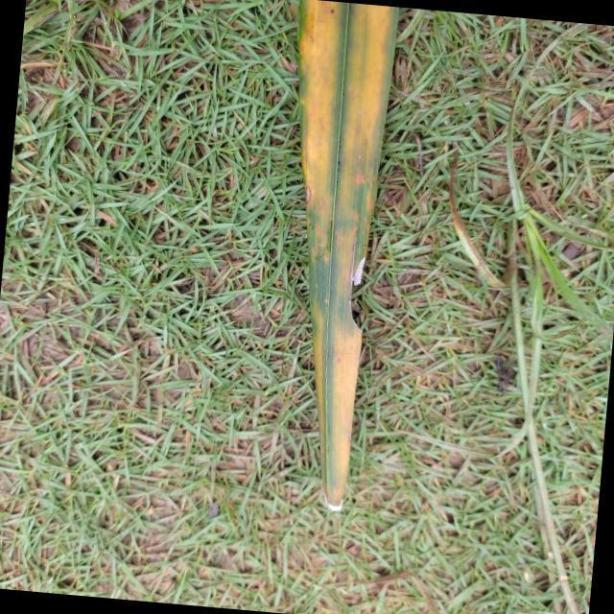Megnesium: (292, 0, 399, 519)
